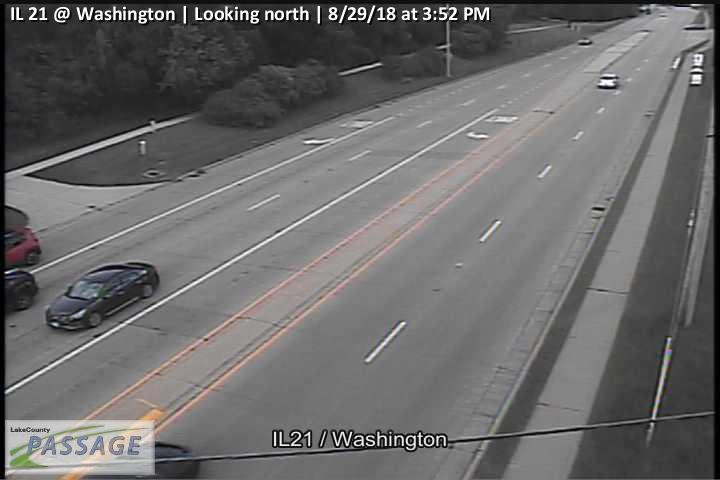SUV: (595, 72, 619, 89)
Sedan: (44, 262, 159, 331), (577, 36, 593, 46)
